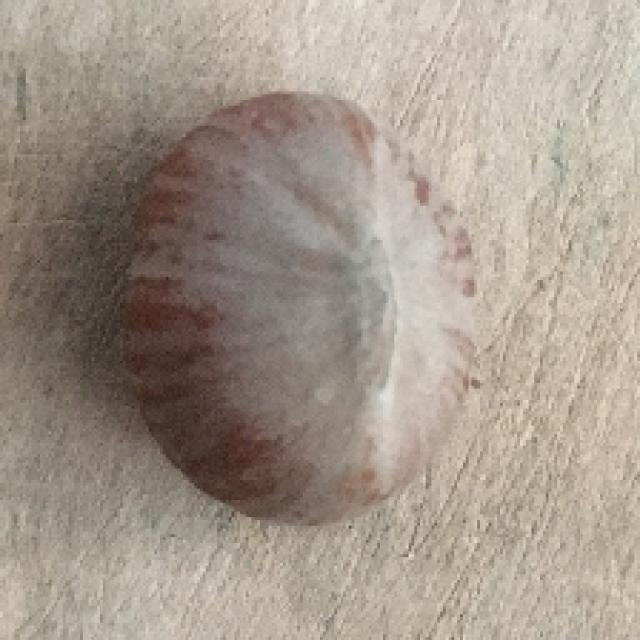qualityHazelnut: (117, 79, 484, 524)
